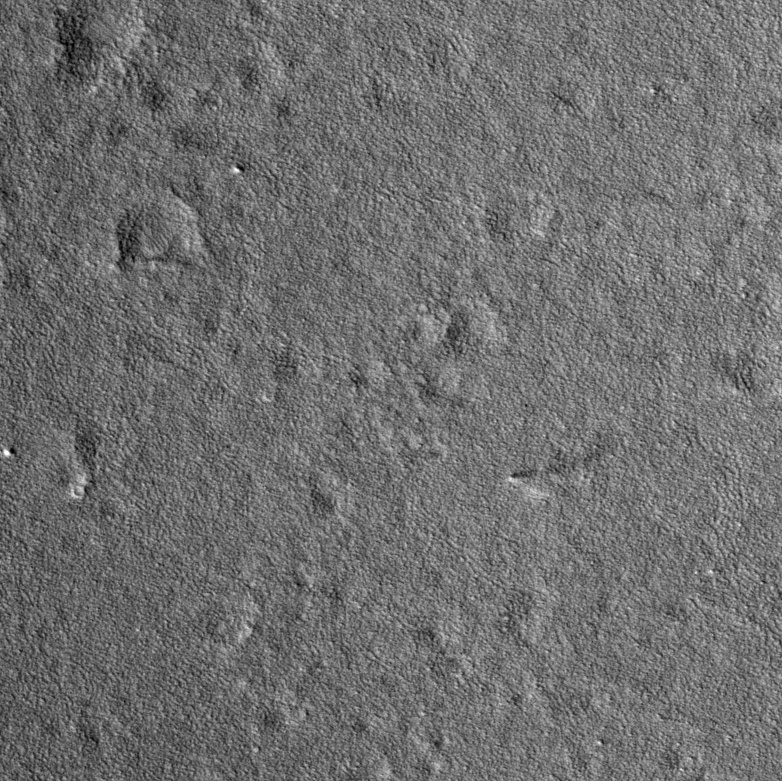dust_devil: (506, 451, 603, 499)
